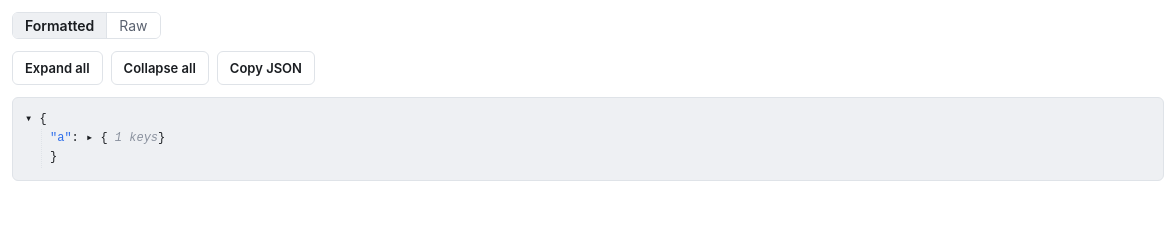
Test: JsonView › renders nested containers collapsed by default, expandable on click
Check: the text "\"b\"" is not shown
Click the button "▸ { 1 keys}": (126, 138) [86,130,165,145]
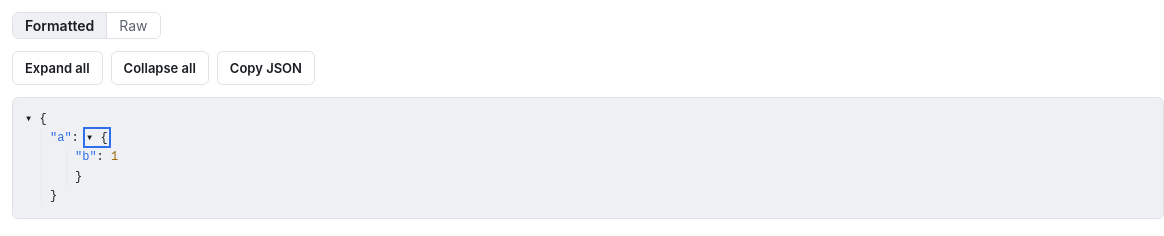
Check: the text "\"b\"" is shown, box [75,150,97,164]
